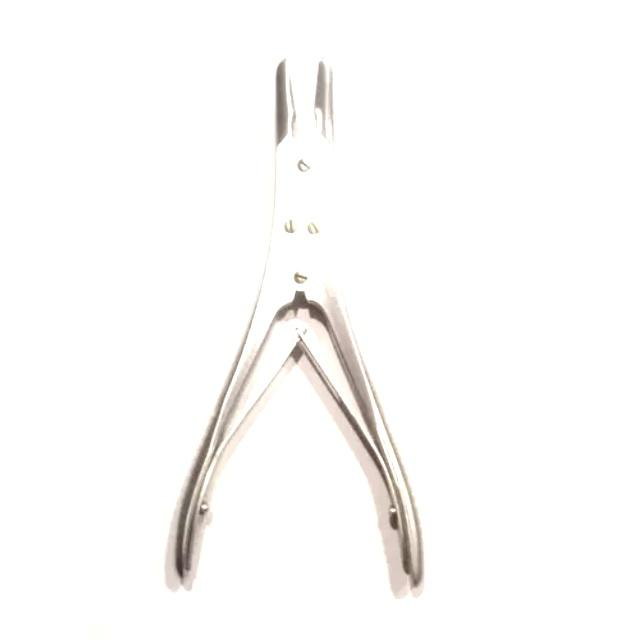gubia: (163, 51, 431, 603)
